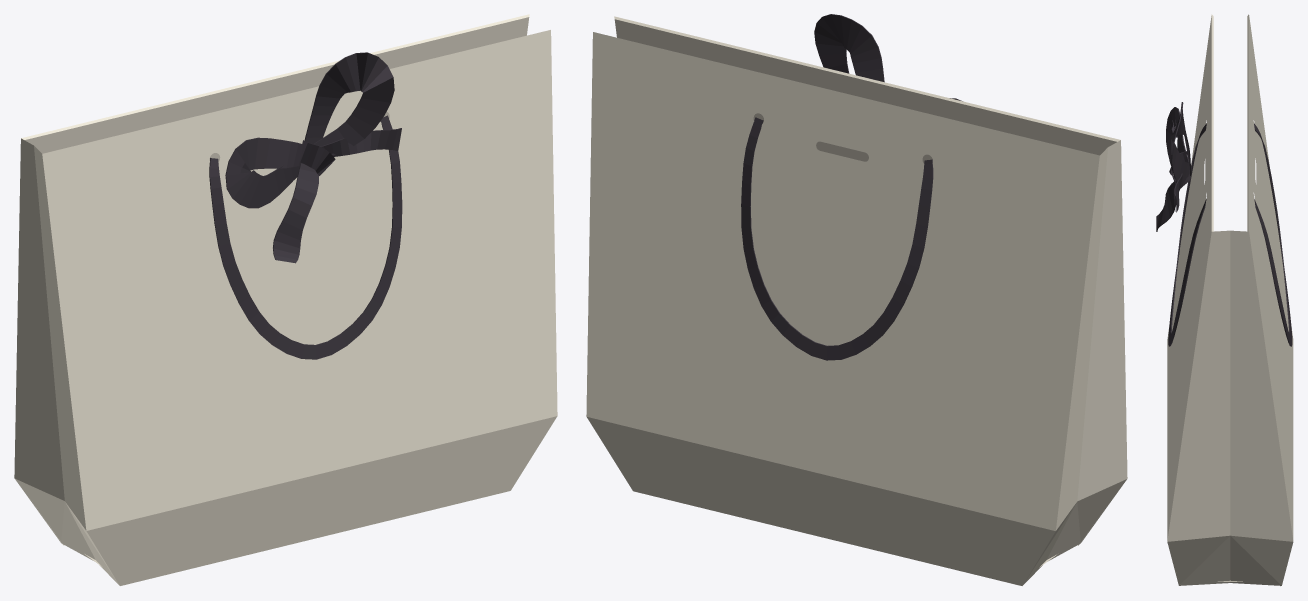
The picture shows the model from 3 angles, left to right: view 1: azimuth 30°, elevation 25°; view 2: azimuth 150°, elevation 25°; view 3: azimuth 270°, elevation 25°; orthographic projection. The views are drawn at different scales.
Parts seen in each view (by area): view 1: Front Panel outside, Front Lower fold outside, Left Back gusset, Back Panel inside, Front ribbon handle · outer cloth, Bow right loop · outer cloth, Left Front gusset, Bow left loop · outer cloth, Bow long tail · outer cloth, Back Top edge, Bow short tail · outer cloth, Left Back diagonal outer (+2 smaller); view 2: Back Panel outside, Back Lower fold outside, Left Front gusset, Front Panel inside, Back ribbon handle · outer cloth, Left Back gusset, Bow right loop · inner cloth, Front Top edge, Left Front diagonal outer, Left Front diagonal inner; view 3: Right Front gusset, Right Back gusset, Back Panel outside, Front Panel outside, Right Front diagonal outer, Right Back diagonal outer, Right Front diagonal inner, Right Back diagonal inner, Front ribbon handle · outer cloth, Back ribbon handle · outer cloth, Front Top edge, Bow right loop · inner cloth (+7 smaller).
Boxes of the visible parts, <box> form: Front Panel outside: <box>42,30,557,530</box>; Front Lower fold outside: <box>86,416,557,585</box>; Left Back gusset: <box>14,138,64,500</box>; Back Panel inside: <box>25,17,529,161</box>; Front ribbon handle · outer cloth: <box>210,115,402,359</box>; Bow right loop · outer cloth: <box>305,52,394,155</box>; Left Front gusset: <box>34,146,86,530</box>; Bow left loop · outer cloth: <box>226,138,302,208</box>; Bow long tail · outer cloth: <box>273,163,318,263</box>; Back Top edge: <box>21,14,529,139</box>; Bow short tail · outer cloth: <box>321,128,401,156</box>; Left Back diagonal outer: <box>15,478,64,542</box>; Back Panel outside: <box>586,32,1099,530</box>; Back Lower fold outside: <box>587,417,1055,585</box>; Left Front gusset: <box>1077,140,1127,501</box>; Front Panel inside: <box>614,19,1116,163</box>; Back ribbon handle · outer cloth: <box>741,117,932,360</box>; Left Back gusset: <box>1056,147,1107,530</box>; Bow right loop · inner cloth: <box>814,14,883,81</box>; Front Top edge: <box>614,16,1120,141</box>; Left Front diagonal outer: <box>1077,479,1126,542</box>; Left Front diagonal inner: <box>1046,502,1080,560</box>; Right Front gusset: <box>1167,230,1230,541</box>; Right Back gusset: <box>1230,230,1293,541</box>; Back Panel outside: <box>1249,15,1293,539</box>; Front Panel outside: <box>1167,16,1211,540</box>; Right Front diagonal outer: <box>1167,535,1229,585</box>; Right Back diagonal outer: <box>1231,535,1293,585</box>; Right Front diagonal inner: <box>1179,536,1230,585</box>; Right Back diagonal inner: <box>1230,536,1281,585</box>; Front ribbon handle · outer cloth: <box>1168,123,1206,346</box>; Back ribbon handle · outer cloth: <box>1254,123,1292,346</box>; Front Top edge: <box>1211,14,1213,231</box>; Bow right loop · inner cloth: <box>1172,109,1190,183</box>.
Size of the model in its own units: 0.24 by 0.2141 by 0.0641.
